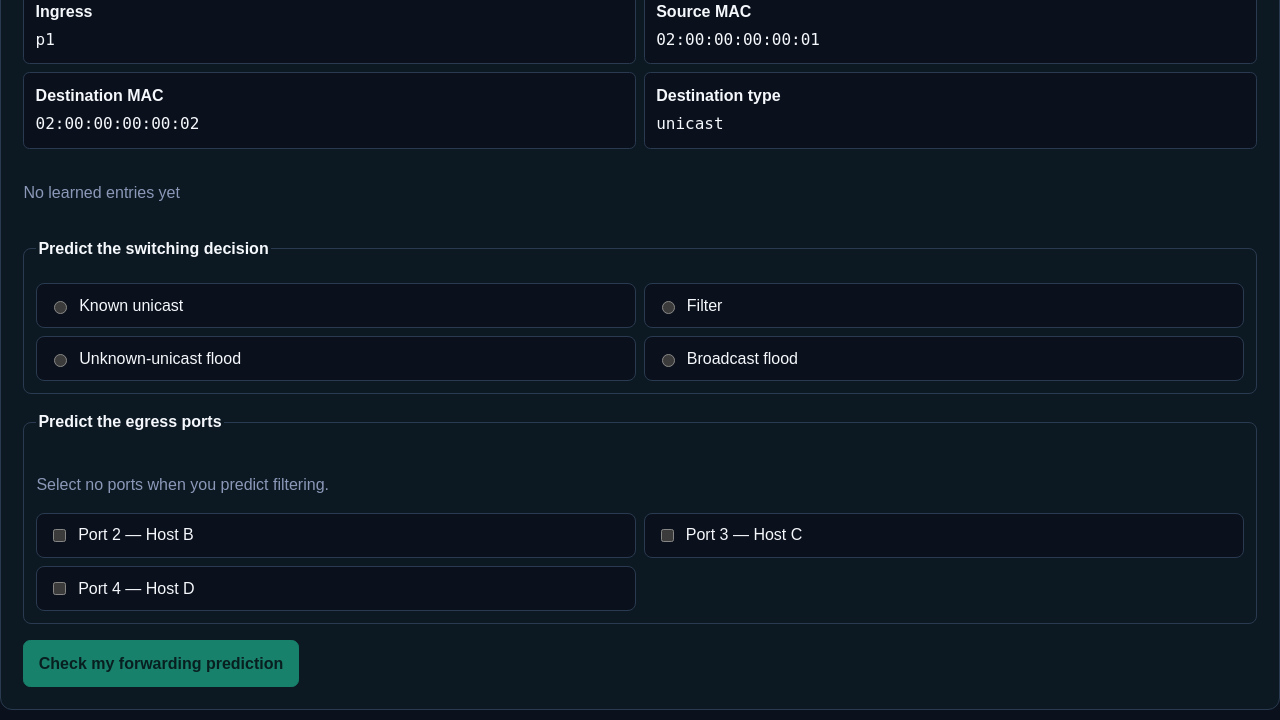
FrameForwardingLab › explains source learning, lookup, decision, and updated table after a correct submission
The width and height of the screenshot is (1280, 720).
(page scrolled)
Click the radio button labelled "Unknown-unicast flood". click: point(61, 360)
box: [54,354,67,367]
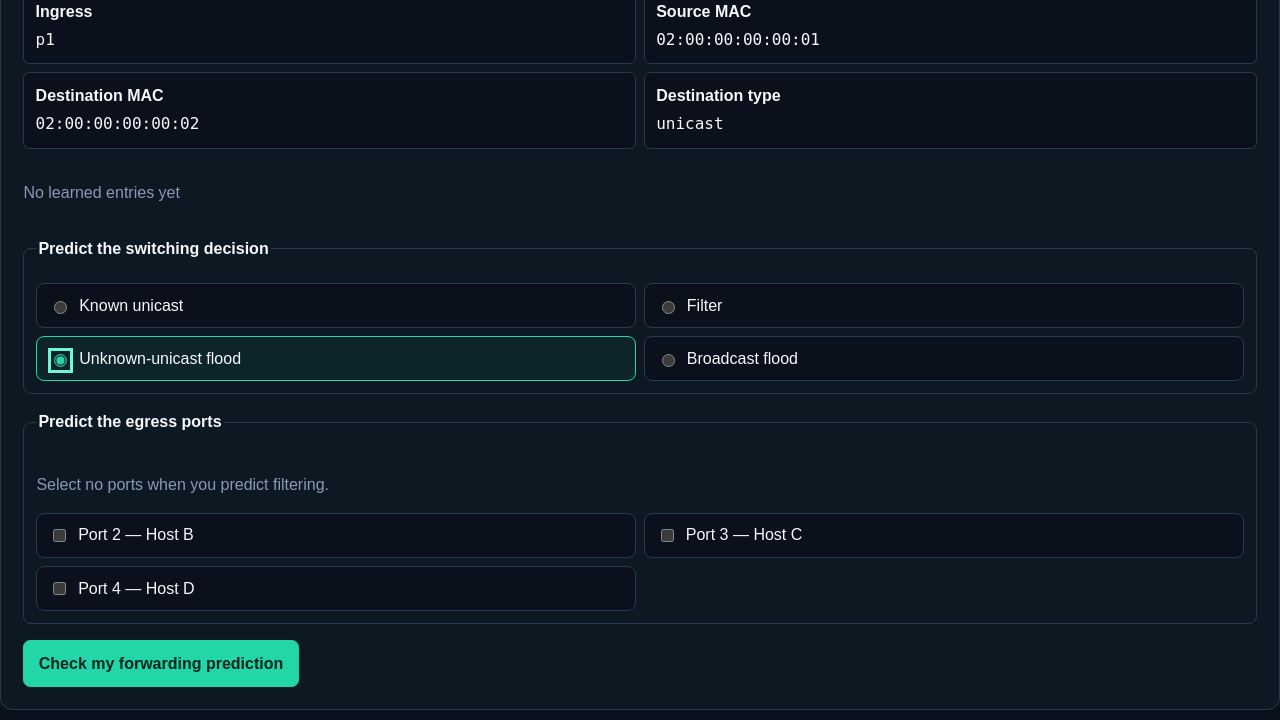
Click the checkbox labelled "Port 2 — Host B". click: point(60, 535)
box: [53,529,66,542]
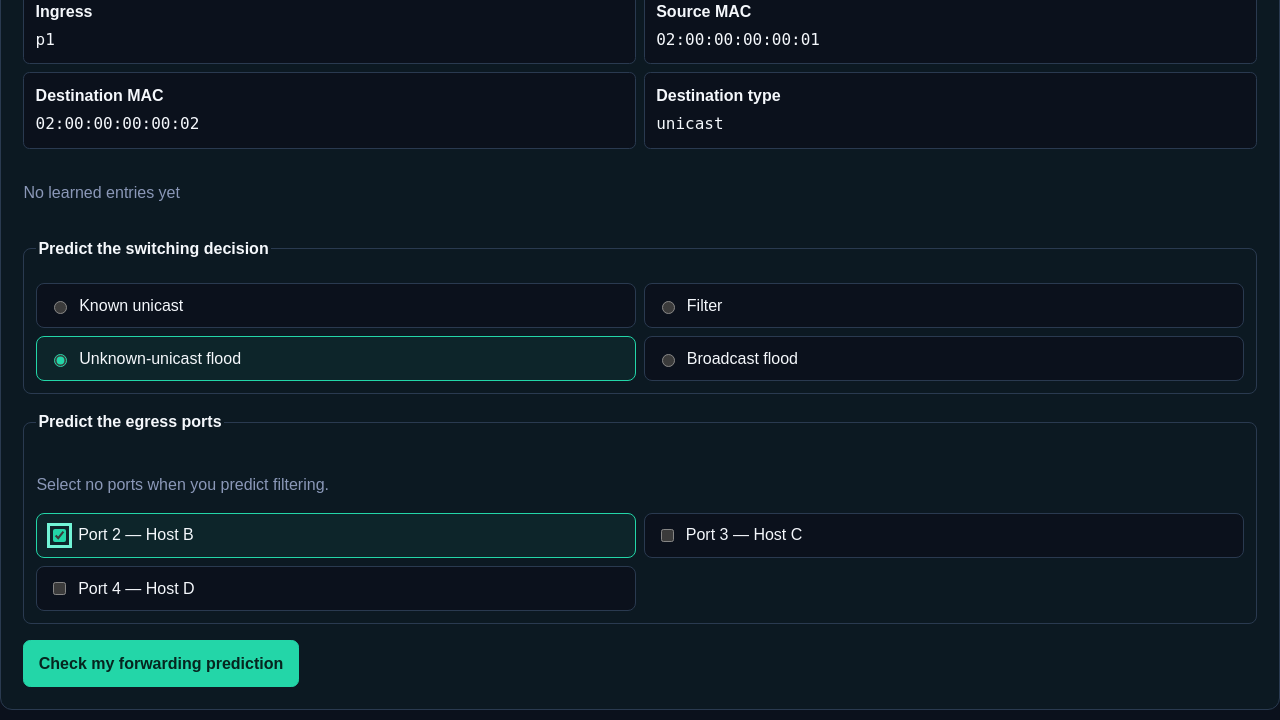
Click the checkbox labelled "Port 3 — Host C". click: point(668, 535)
box: [661,529,674,542]
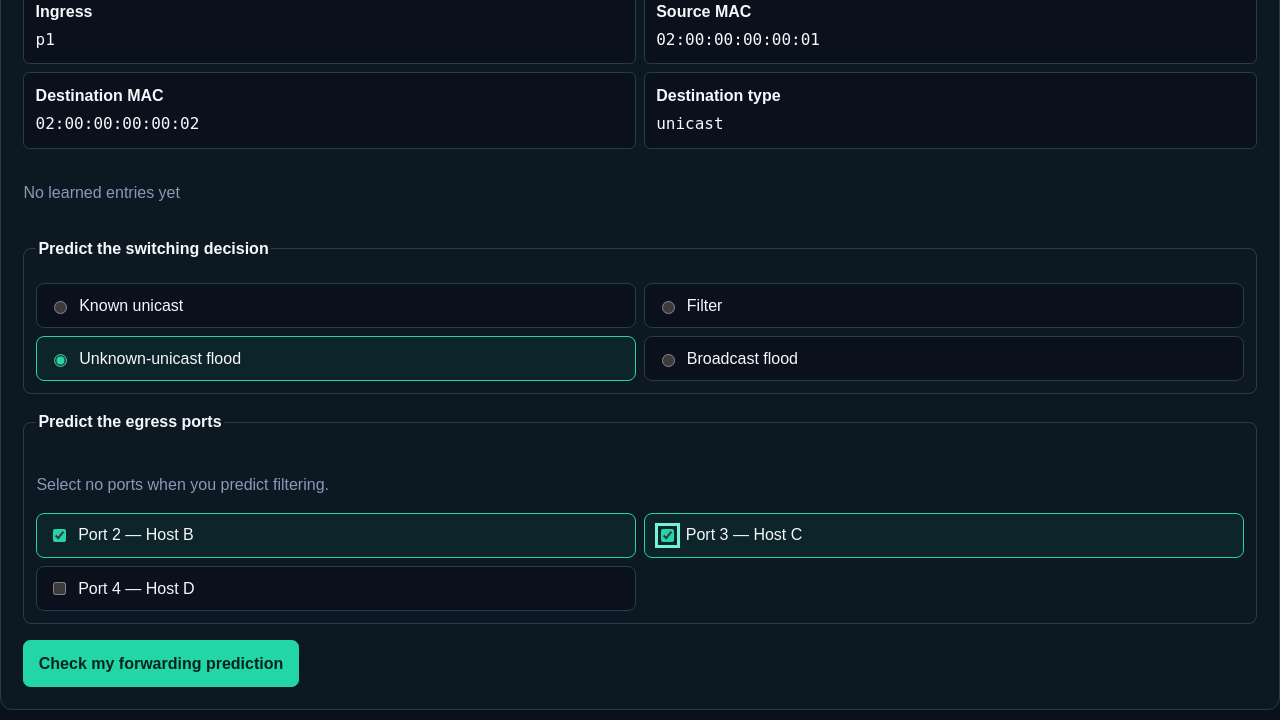
Click the checkbox labelled "Port 4 — Host D". click: point(60, 588)
box: [53,582,66,595]
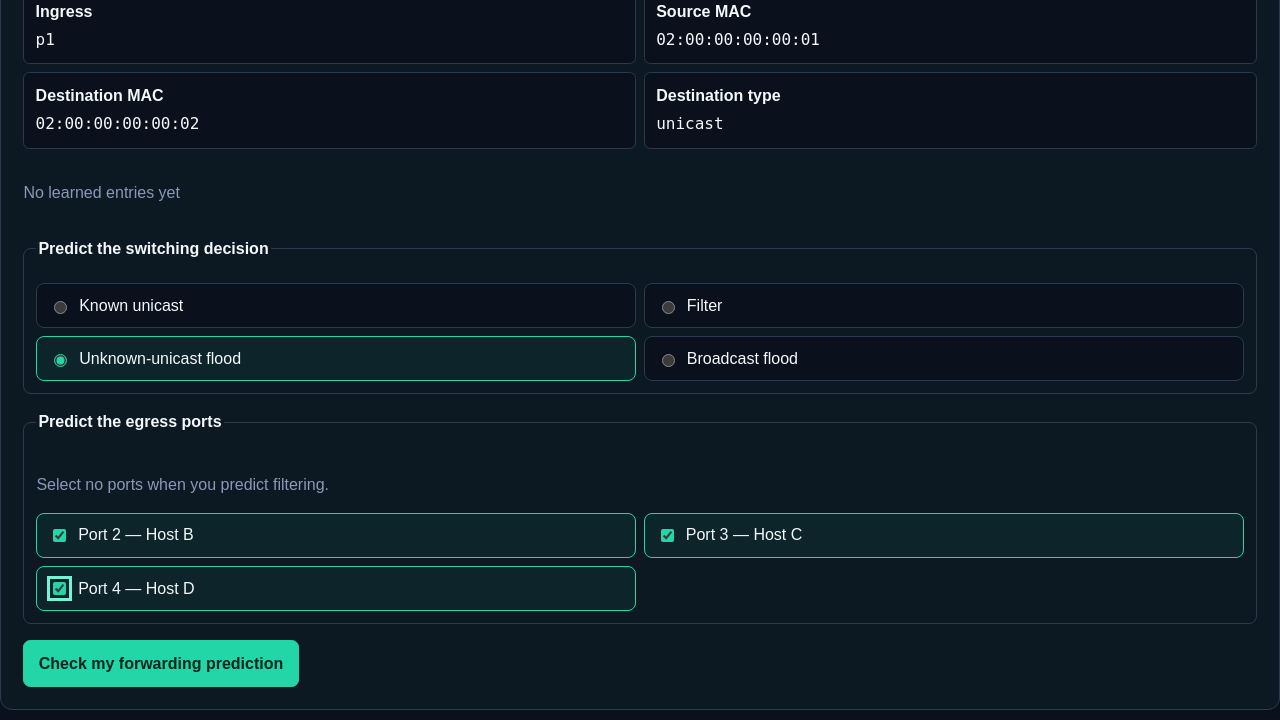
Click the button "Check my forwarding prediction". click: point(161, 664)
box: [23,640,299,687]
(page scrolled)
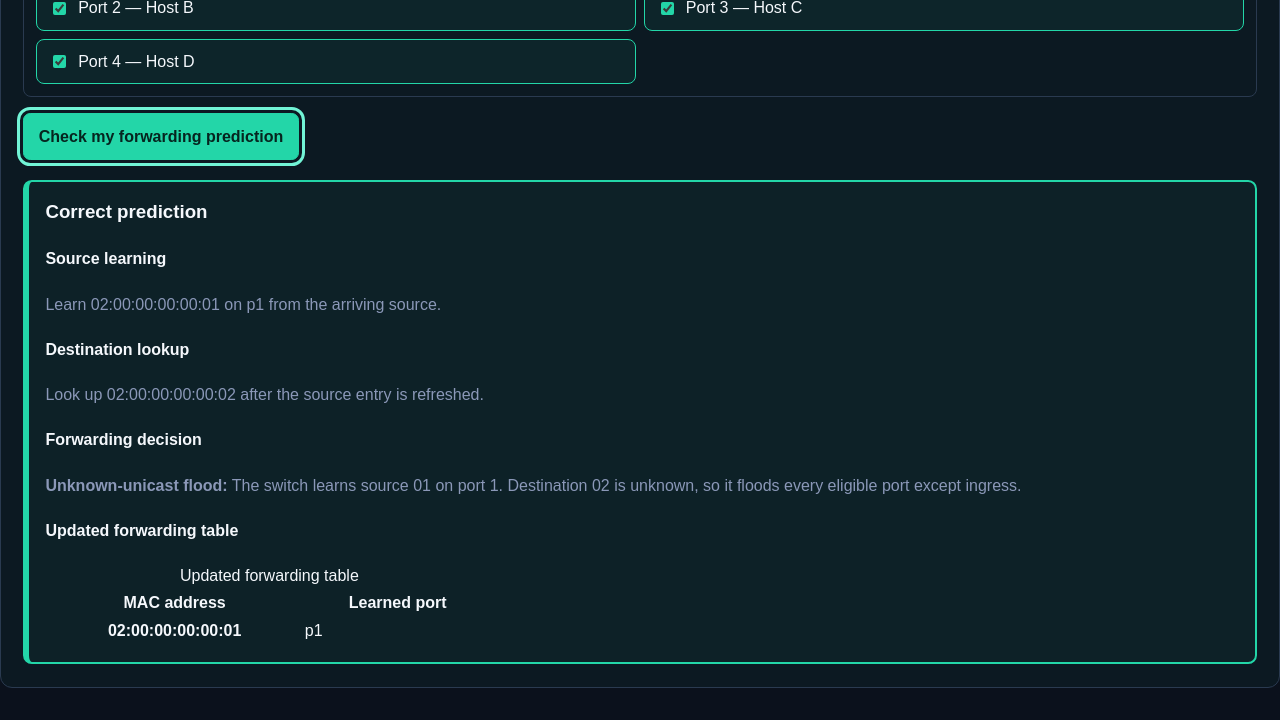
Now the element named "Frame forwarding result" shows "Correct prediction", box [45,201,208,222]
Now the heading "Source learning" is shown, box [45,250,166,267]
Now the heading "Destination lookup" is shown, box [45,341,189,358]
